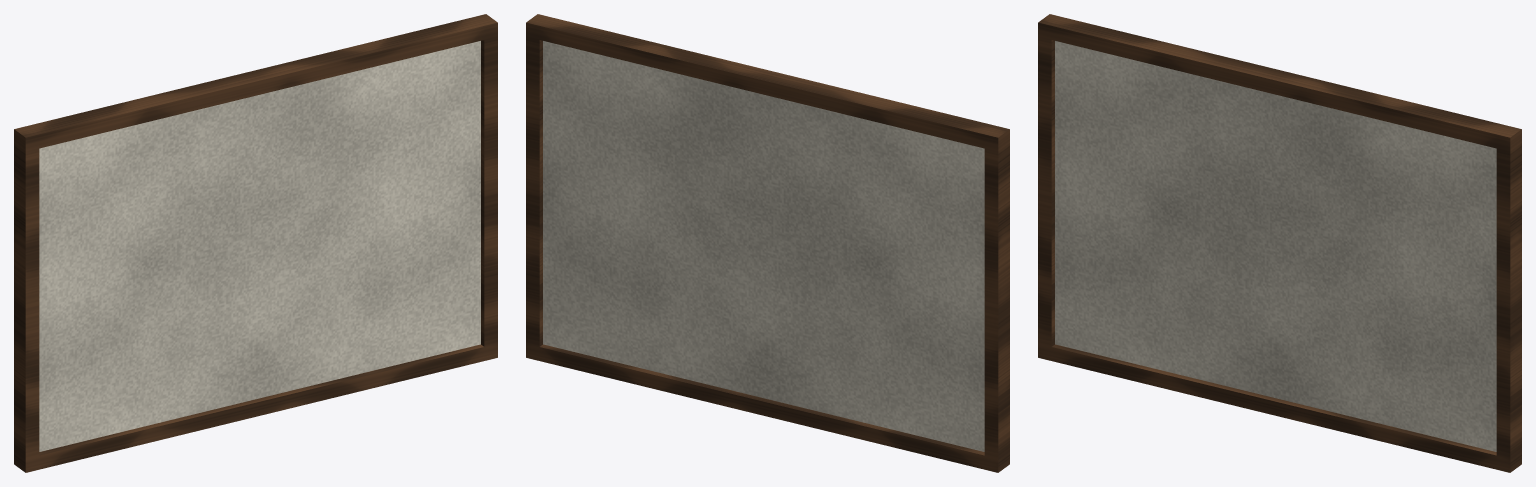
Rendered from didactic_panel.fbx.
3 renders of one model, left to right at view 1: azimuth 30°, elevation 25°; view 2: azimuth 150°, elevation 25°; view 3: azimuth 330°, elevation 25°, orthographic.
Parts seen in each view (by area): view 1: didactic_panel; view 2: didactic_panel; view 3: didactic_panel.
Part boxes in pixels (box(x1,y1,x2,y2)): didactic_panel: box(14, 14, 497, 472); didactic_panel: box(526, 14, 1009, 472); didactic_panel: box(1038, 14, 1521, 472).
Size of the model in its own units: 140 by 95 by 6.
